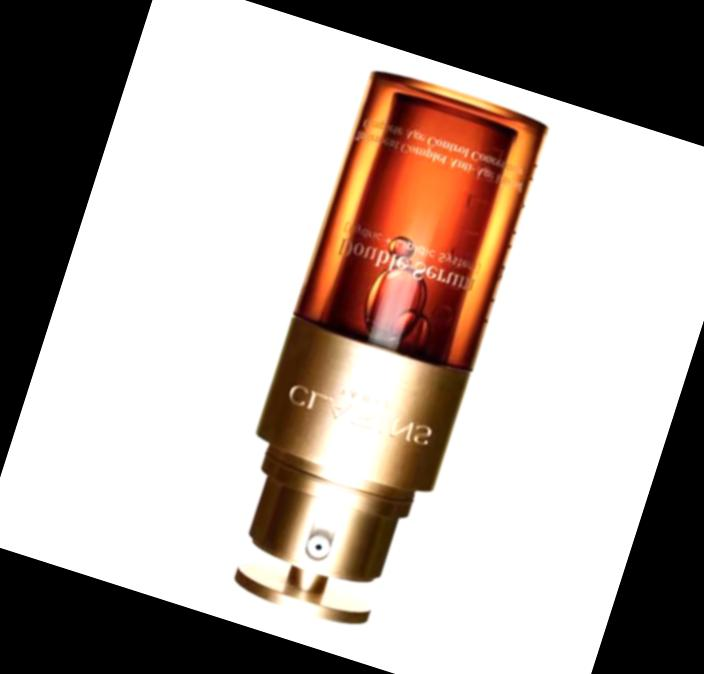cosmetic: (198, 68, 551, 647)
